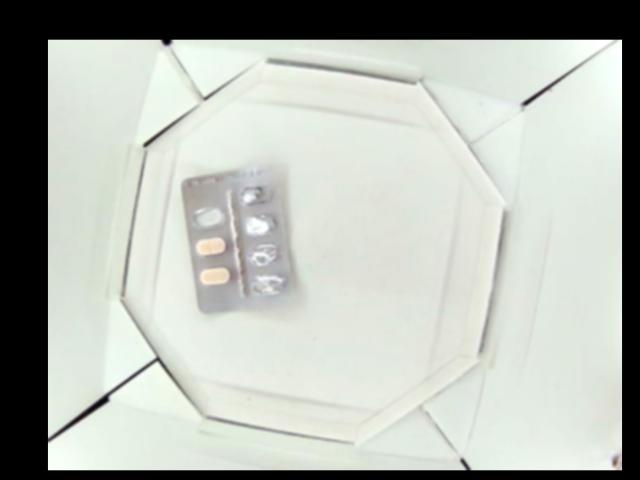Medicine: (181, 164, 292, 315)
